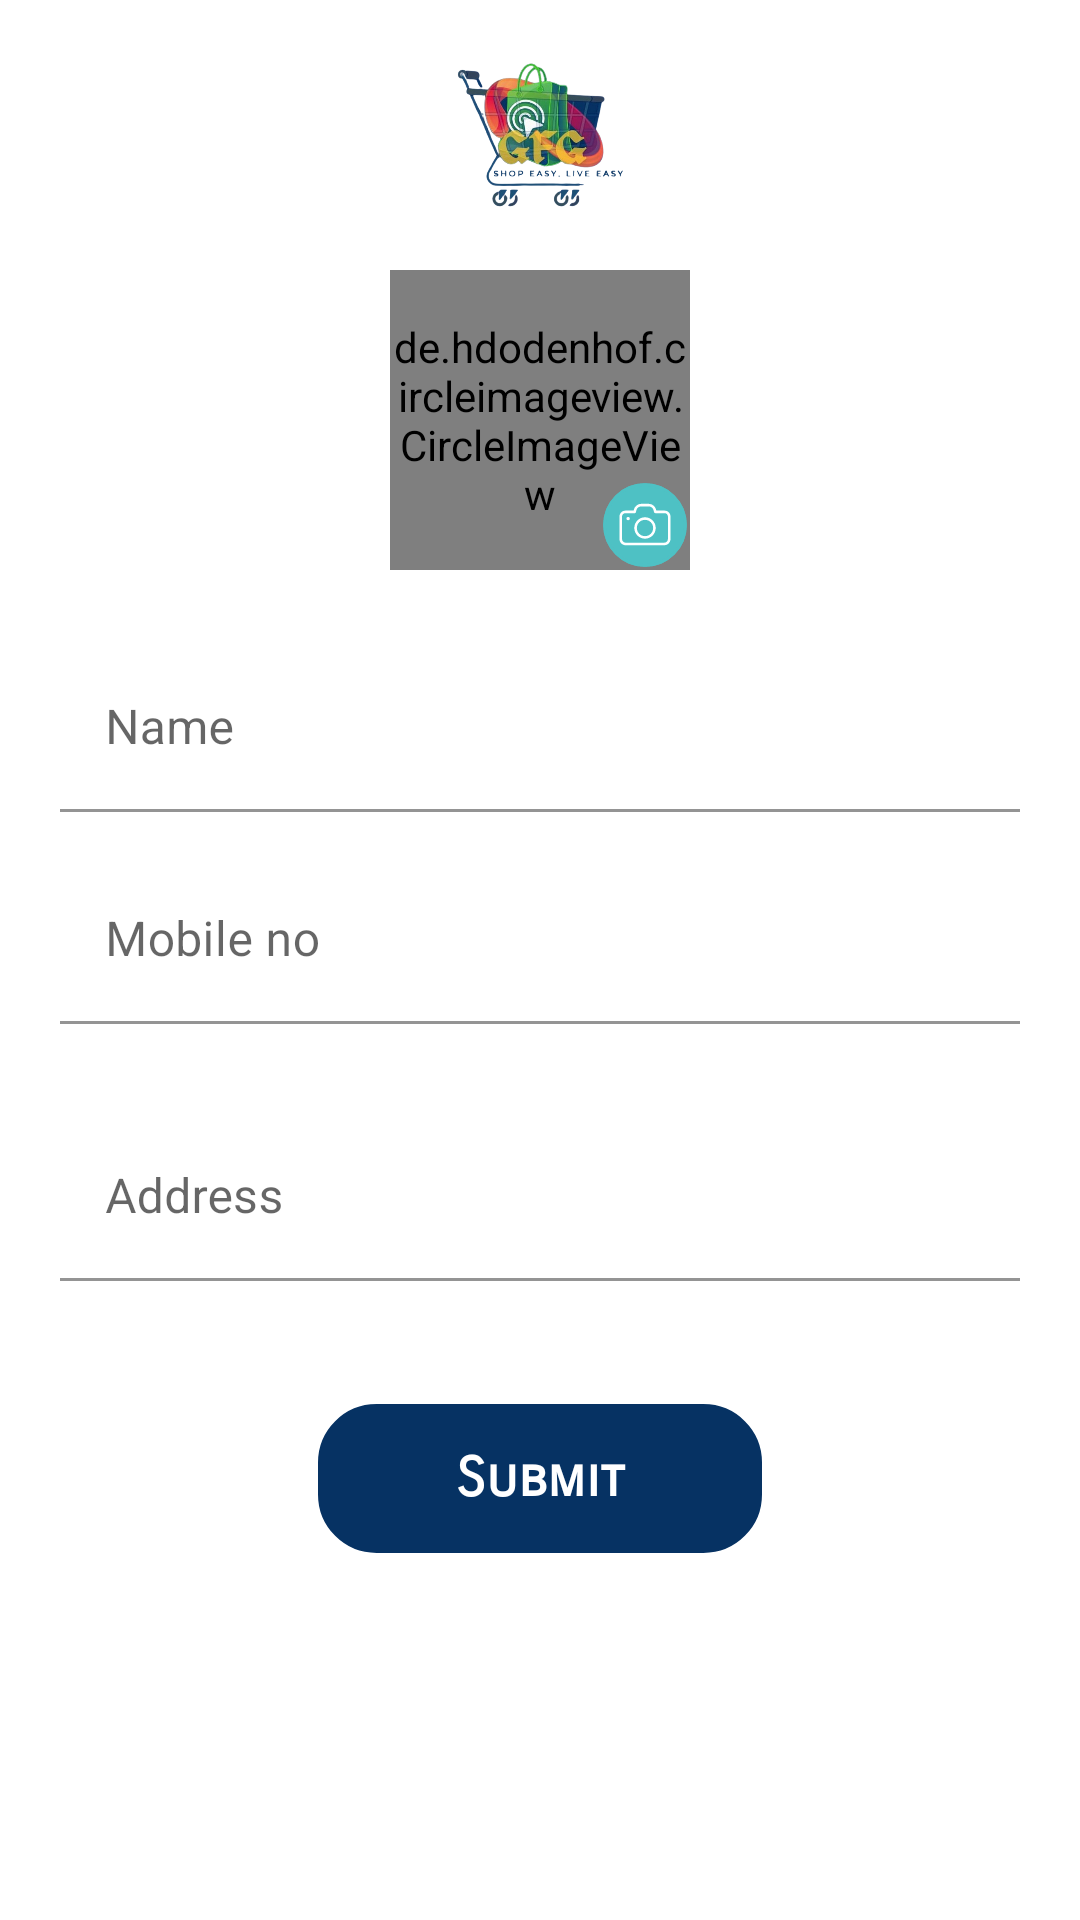

Icon click points for this 1080 × 1920 phone screenshot, format (x=x, y=y):
photo camera: (x=645, y=525)
